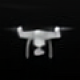plane: (9, 24, 72, 60)
